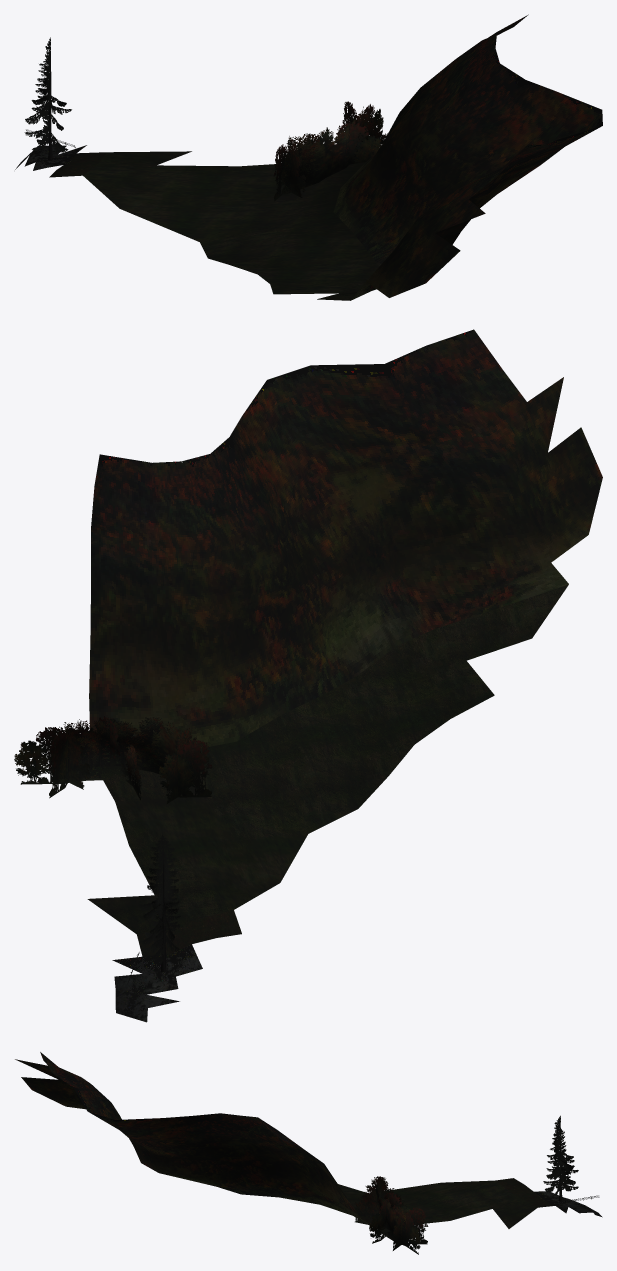
The model's file is cell_12_-10.gltf.
3 renders of one model, top to bottom at view 1: azimuth 30°, elevation 25°; view 2: azimuth 150°, elevation 25°; view 3: azimuth 270°, elevation 25°, orthographic. The views are drawn at different scales.
Visible parts, largest first — view 1: cell_12_-10; view 2: cell_12_-10; view 3: cell_12_-10.
Boxes of the visible parts, x1,y1,x2,y2 form: cell_12_-10: [15, 14, 602, 300]; cell_12_-10: [14, 329, 602, 1022]; cell_12_-10: [15, 1052, 602, 1254].
Size of the model in its own units: 111 by 101 by 268.
10 materials, 10 textured.
